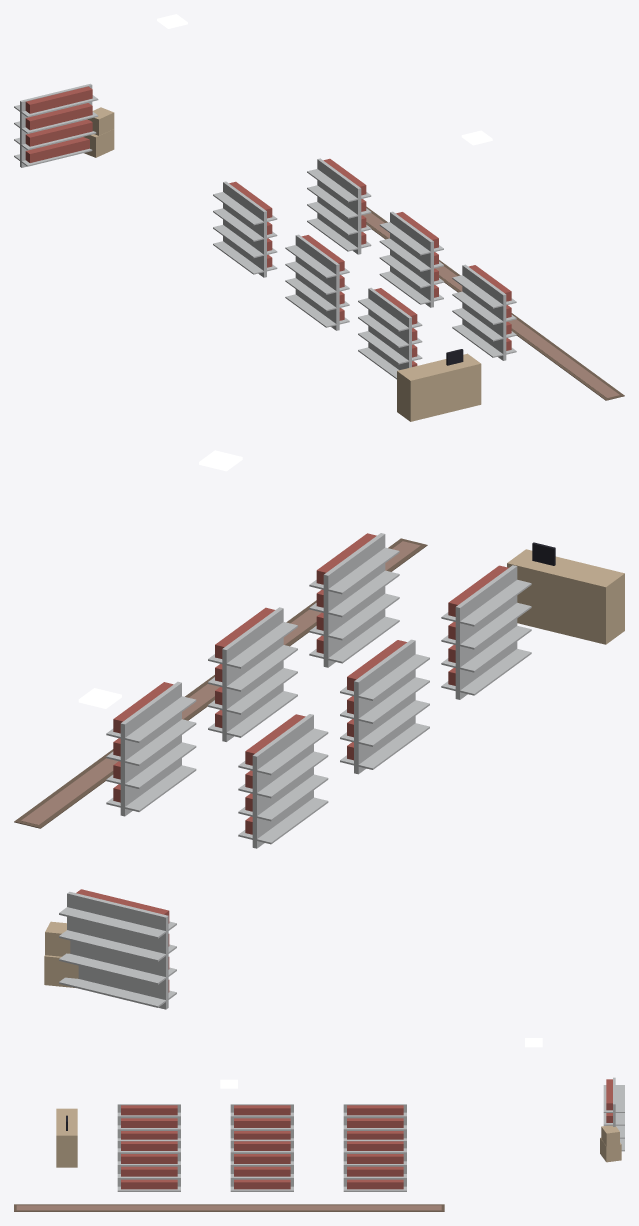
Rendered from fine-s0.glb.
3 renders of one model, top to bottom at view 1: azimuth 30°, elevation 25°; view 2: azimuth 150°, elevation 25°; view 3: azimuth 270°, elevation 25°, orthographic. The views are drawn at different scales.
Parts seen in each view (by area): view 1: shelving.000, shop-counter.000, shelf.001, shelf.003, shelf.005, shelf.000, shelf.004, shelf.002, soft-s0, cardboard-box.000; view 2: shelving.000, shop-counter.000, shelf.005, shelf.002, shelf.000, shelf.003, shelf.004, shelf.001, soft-s0, cardboard-box.000; view 3: soft-s0, shelf.003, shelf.004, shelf.005, shelf.000, shelf.001, shelf.002, shop-counter.000, shelving.000, cardboard-box.000.
Boxes of the visible parts, x1,y1,x2,y2 form: shelving.000: [14, 83, 98, 167]; shop-counter.000: [397, 349, 481, 421]; shelf.001: [285, 234, 349, 330]; shelf.003: [307, 158, 371, 254]; shelf.005: [452, 264, 516, 360]; shelf.000: [213, 181, 277, 277]; shelf.004: [379, 211, 443, 307]; shelf.002: [358, 287, 422, 379]; soft-s0: [363, 206, 624, 400]; cardboard-box.000: [83, 107, 114, 157]; shelving.000: [59, 889, 176, 1009]; shop-counter.000: [507, 542, 624, 644]; shelf.005: [309, 533, 399, 667]; shelf.002: [441, 565, 531, 699]; shelf.000: [238, 714, 328, 848]; shelf.003: [106, 681, 196, 816]; shelf.004: [208, 607, 297, 741]; shelf.001: [340, 639, 429, 774]; soft-s0: [14, 538, 427, 828]; cardboard-box.000: [44, 921, 78, 987]; soft-s0: [14, 1204, 444, 1211]; shelf.003: [343, 1139, 406, 1191]; shelf.004: [230, 1139, 293, 1191]; shelf.005: [117, 1139, 180, 1191]; shelf.000: [343, 1104, 406, 1139]; shelf.001: [230, 1104, 293, 1139]; shelf.002: [117, 1104, 180, 1139]; shop-counter.000: [56, 1108, 77, 1167]; shelving.000: [603, 1077, 624, 1151]; cardboard-box.000: [600, 1125, 621, 1162].
Size of the model in its own units: 5.57 by 3.9 by 17.3.
